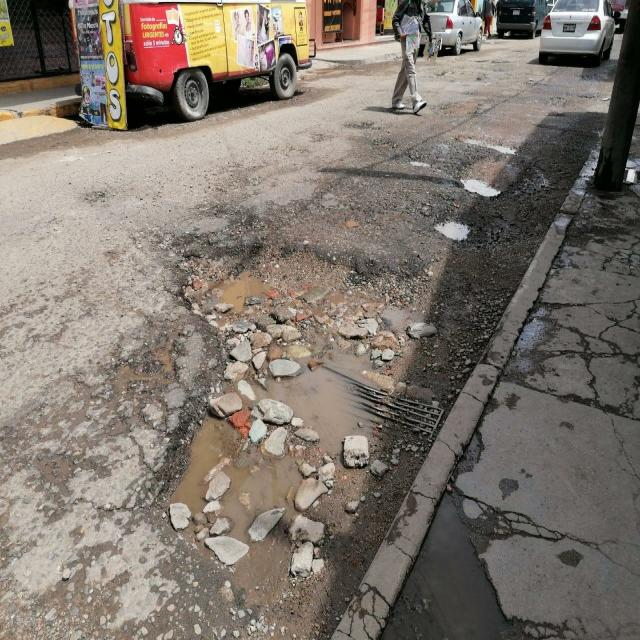Pothole: (59, 203, 485, 600)
